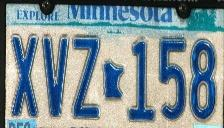1: (125, 38, 158, 122)
5: (157, 37, 189, 120)
8: (188, 37, 220, 120)
V: (42, 37, 70, 119)
X: (8, 34, 42, 117)
Z: (70, 36, 102, 119)
